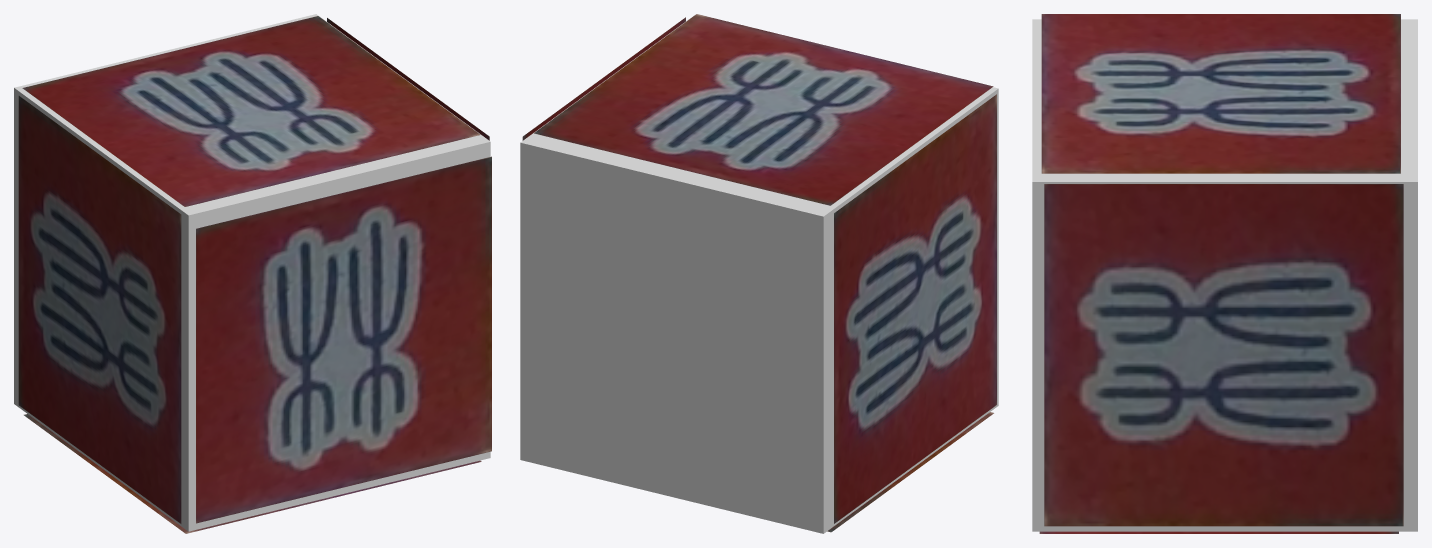
3 renders of one model, left to right at view 1: azimuth 30°, elevation 25°; view 2: azimuth 150°, elevation 25°; view 3: azimuth 270°, elevation 25°, orthographic. The views are drawn at different scales.
Visible parts, largest first — view 1: R2.003, R2.002, R2.004, Link31, R2.001, R2; view 2: Link31, R2.002, R2.004, R2, R2.001; view 3: R2, R2.004, Link31, R2.001.
Boxes of the visible parts, x1,y1,x2,y2 form: R2.003: [196, 156, 491, 523]; R2.002: [18, 96, 181, 523]; R2.004: [22, 16, 480, 206]; Link31: [14, 14, 490, 531]; R2.001: [24, 414, 481, 533]; R2: [327, 18, 489, 140]; Link31: [520, 14, 998, 533]; R2.002: [834, 94, 996, 523]; R2.004: [534, 14, 993, 205]; R2: [522, 17, 685, 140]; R2.001: [827, 412, 993, 532]; R2: [1044, 184, 1403, 526]; R2.004: [1041, 14, 1400, 173]; Link31: [1032, 19, 1417, 531]; R2.001: [1039, 531, 1398, 533].
Size of the model in its own units: 0.3581 by 0.3547 by 0.361.
1 material, 1 textured.
